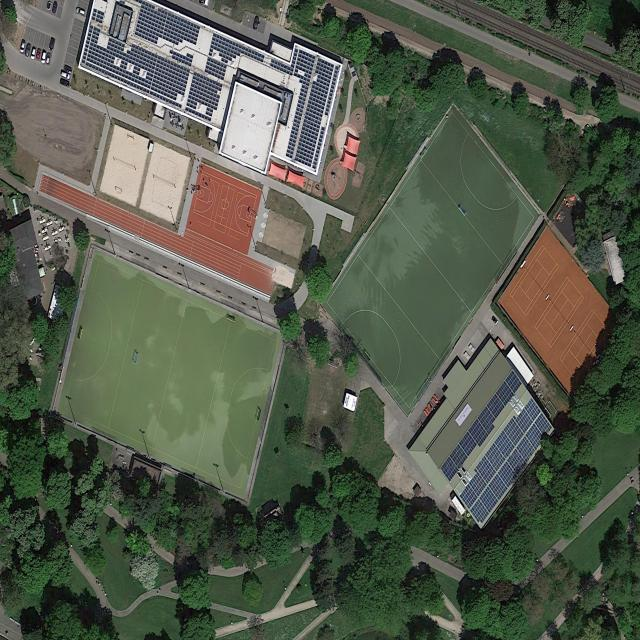small-vehicle: (252, 15, 260, 31), (59, 77, 71, 87), (19, 39, 26, 54), (61, 70, 71, 80), (25, 43, 32, 57), (49, 37, 56, 51), (76, 7, 86, 16), (64, 64, 73, 74), (491, 315, 499, 326), (52, 1, 58, 14), (30, 48, 36, 60), (45, 52, 51, 64), (36, 48, 41, 60), (41, 52, 46, 64), (46, 1, 52, 11)
